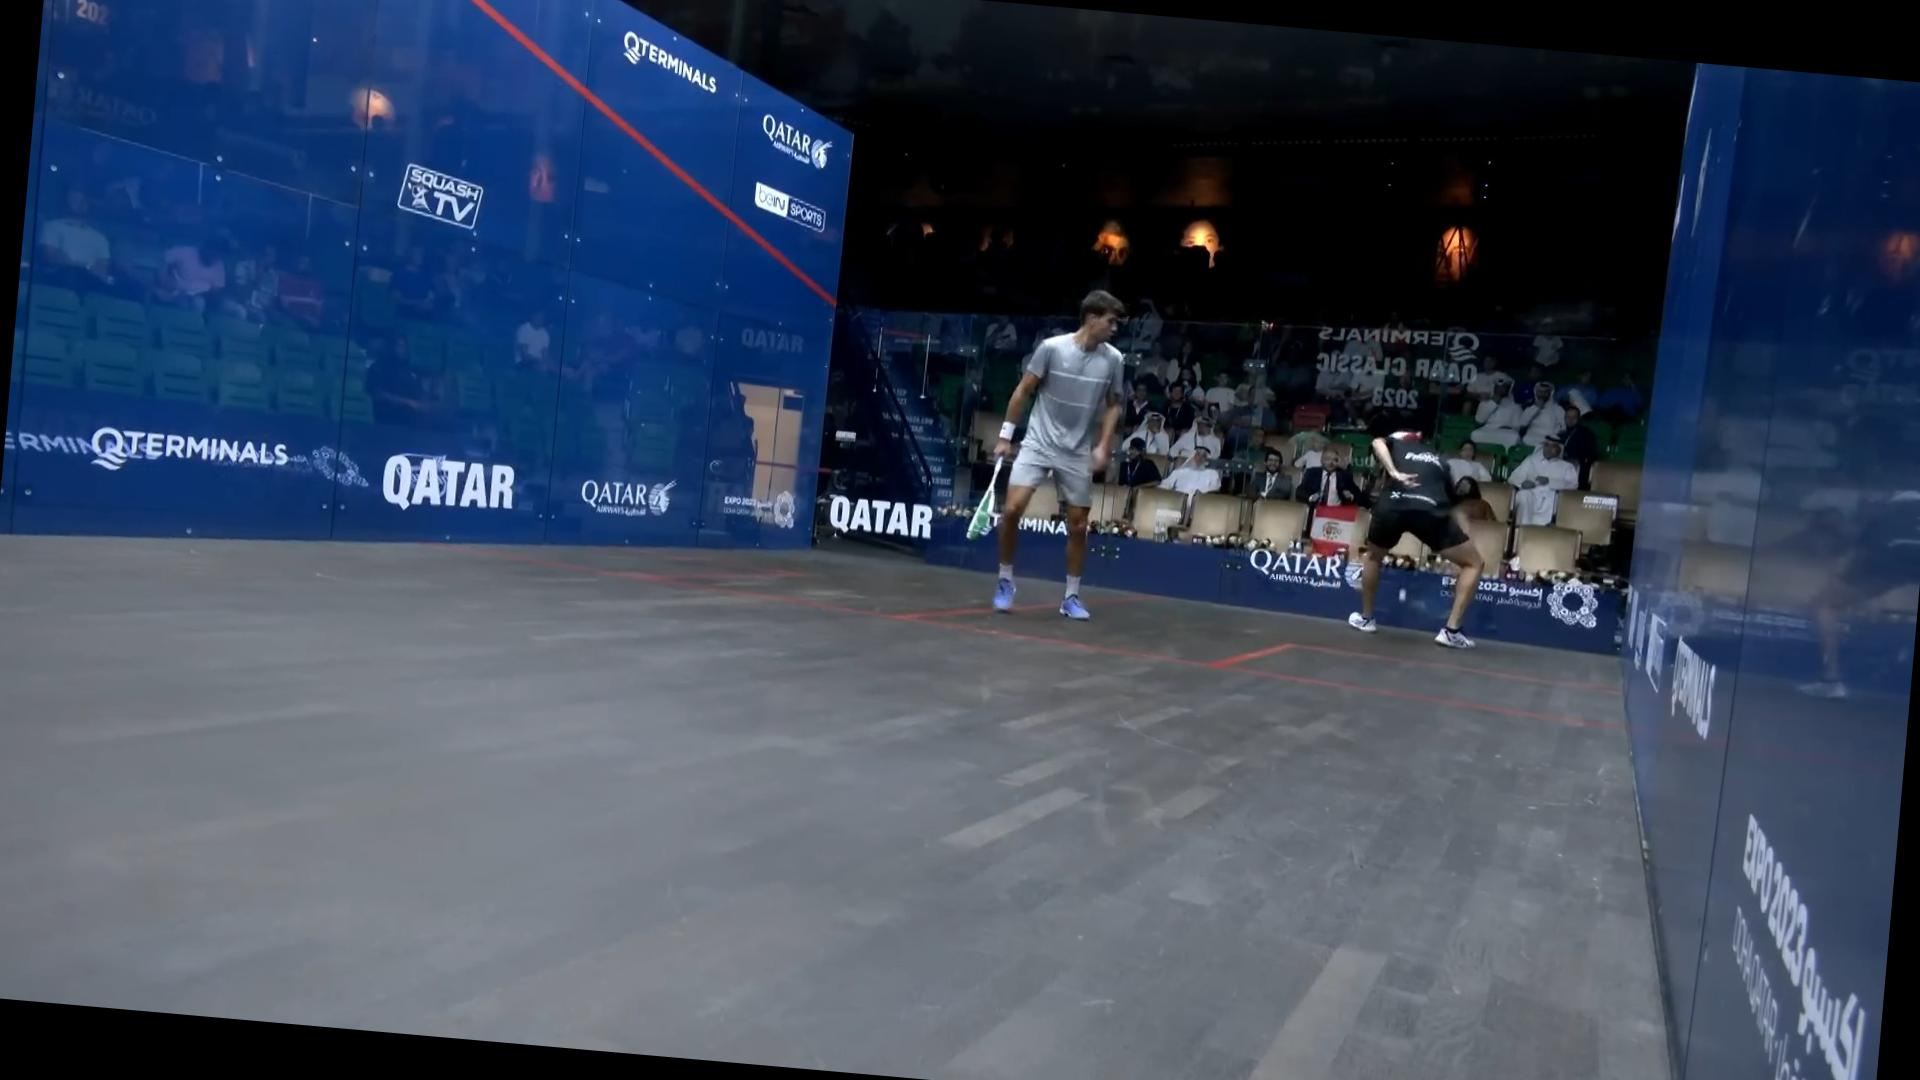Racket: (961, 444, 1006, 539)
